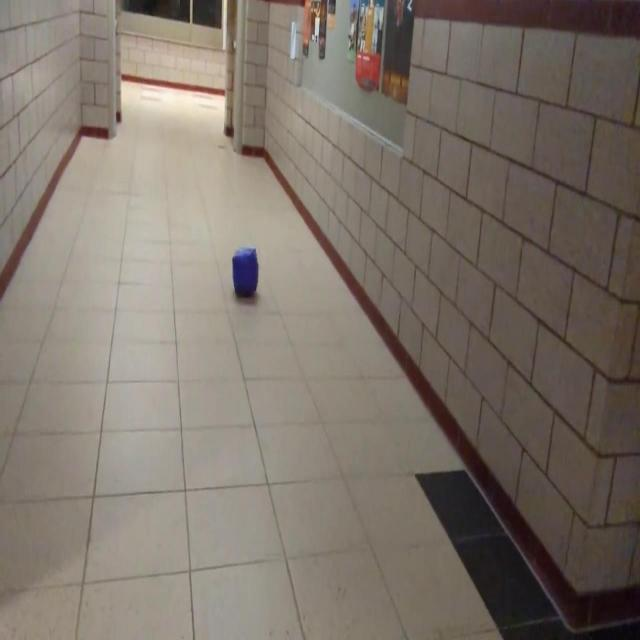frc_cube: (232, 246, 260, 299)
